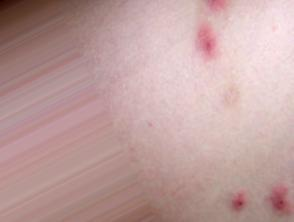Fleas: (194, 21, 217, 60), (230, 188, 246, 210)
